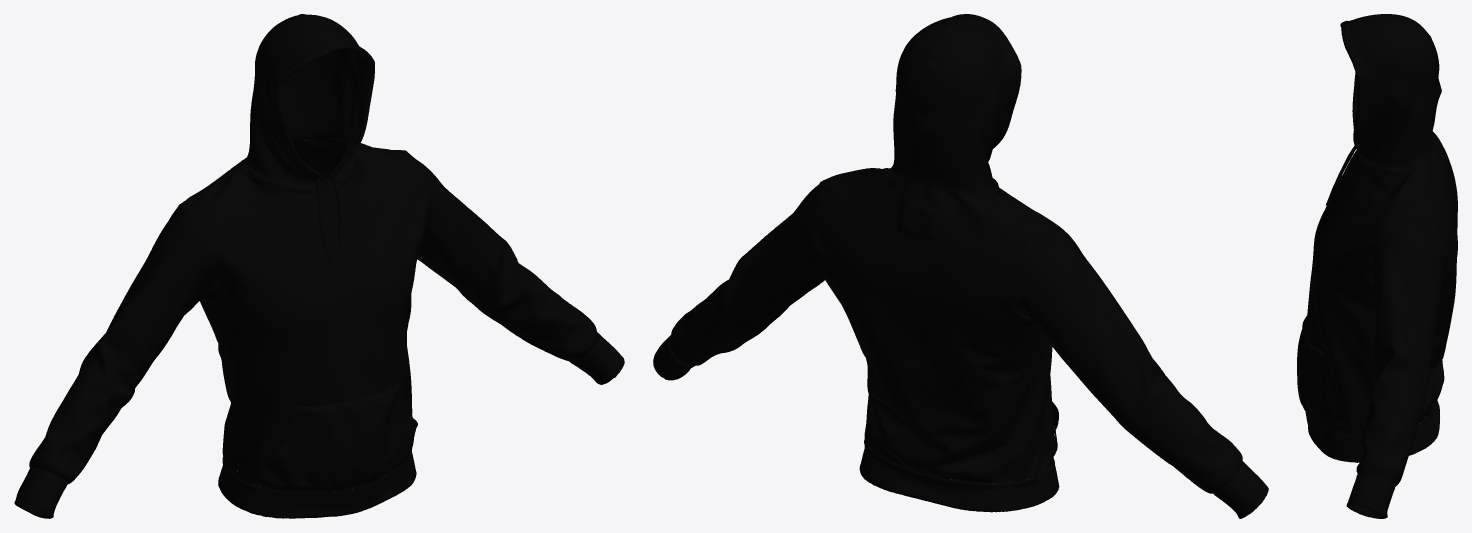
File: hoodie-polamav.glb
3 renders of one model, left to right at view 1: azimuth 30°, elevation 25°; view 2: azimuth 150°, elevation 25°; view 3: azimuth 270°, elevation 25°, orthographic. The views are drawn at different scales.
Bounding box in the file's own units: 4.47 × 3.28 × 1.16.
1 material, 1 textured.
